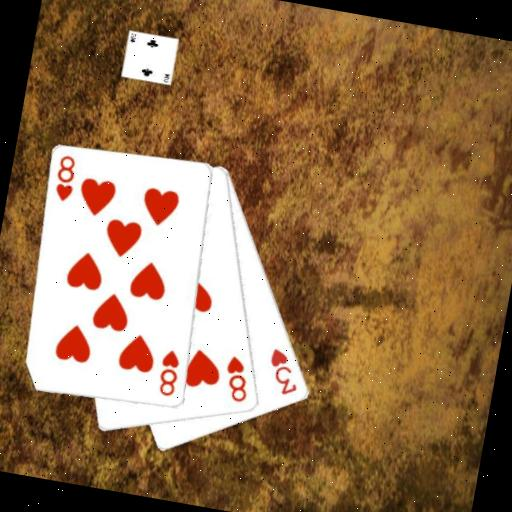3H: (261, 344, 306, 400)
8H: (218, 351, 255, 405), (153, 345, 185, 399), (49, 151, 80, 204)
